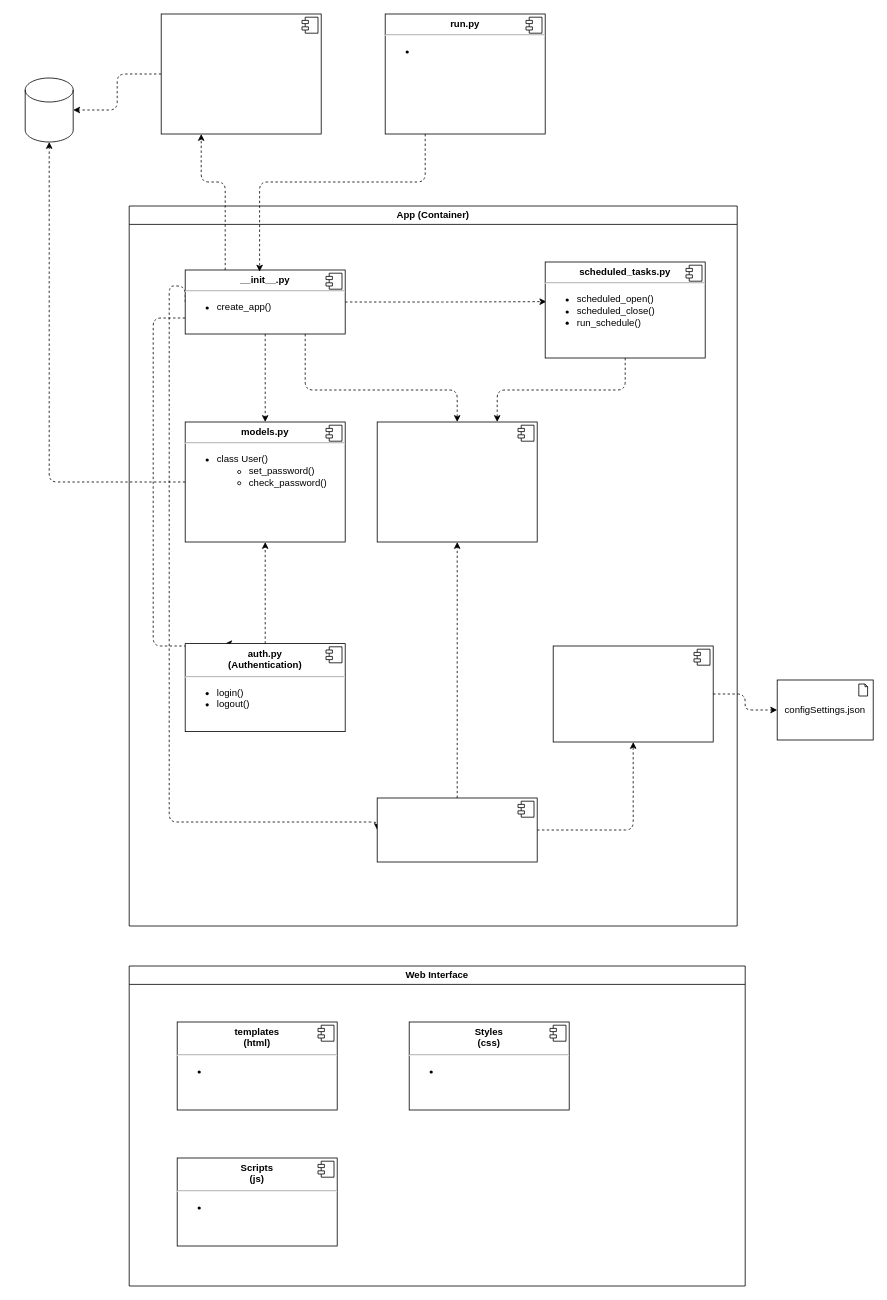
Image size: 887x1300. Some labels were removed from this diagram. Here are the shapes that lost their labels. From the top down, the centre of each, then its label:
At (240,73): "config.py class Config() class DevelopmentConfig() class ProductionConfig()".
At (48,109): "yourdatabase.db".
At (456,481): "hardware_control.py is_running_on_pi() setup_gpio() open_door() close_door()".
At (632,693): "utilities.py load_config() save_config()".
At (456,829): "routes.py (General Routes) configure_routes()".
